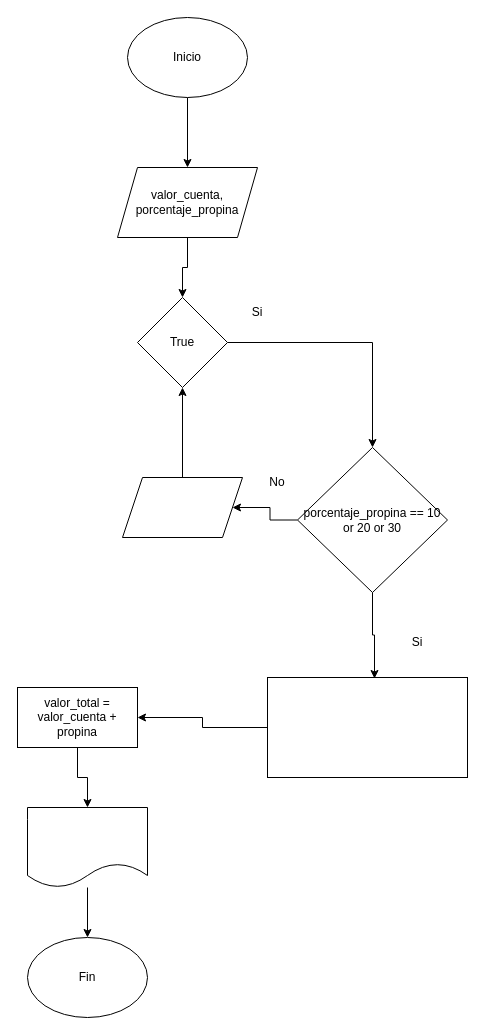
This 485x1035 diagram has some shape labels left out. Here are the shapes that lost their labels. From the top down, the box of each, then its label:
(122, 476, 242, 538): porcentaje_propina
(266, 676, 468, 778): propina = (valor_cuenta*porcentaje_propina)/ 100
(26, 806, 148, 888): propina, valor_total
